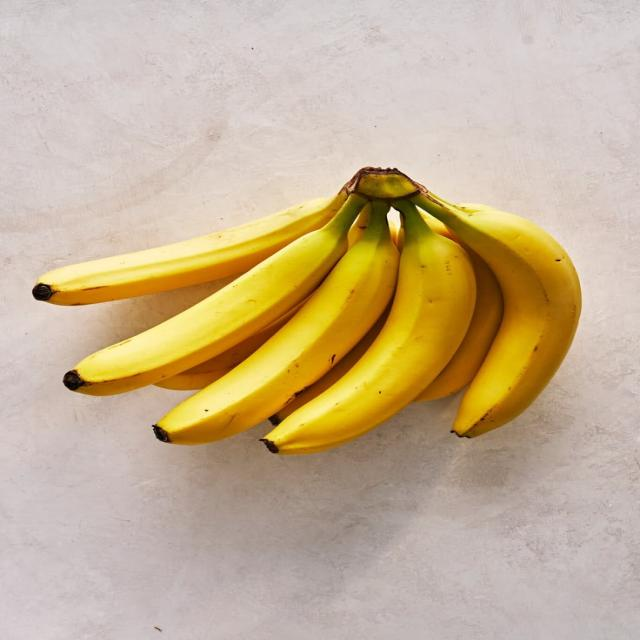unpeal banana: (34, 168, 580, 453), (64, 194, 366, 395), (154, 202, 398, 445), (262, 201, 475, 453), (412, 190, 580, 436), (33, 191, 346, 305), (269, 307, 390, 425), (415, 244, 503, 401), (155, 302, 304, 390), (348, 204, 371, 247)
